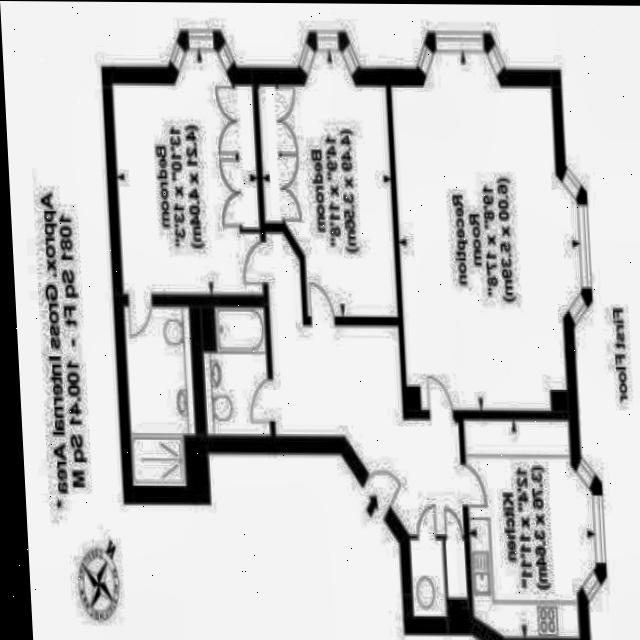room: (170, 223, 542, 567), (389, 44, 587, 417), (256, 46, 398, 323), (111, 46, 264, 301), (463, 413, 598, 640), (124, 303, 198, 486), (200, 304, 272, 438), (409, 536, 447, 617), (444, 538, 468, 599)
